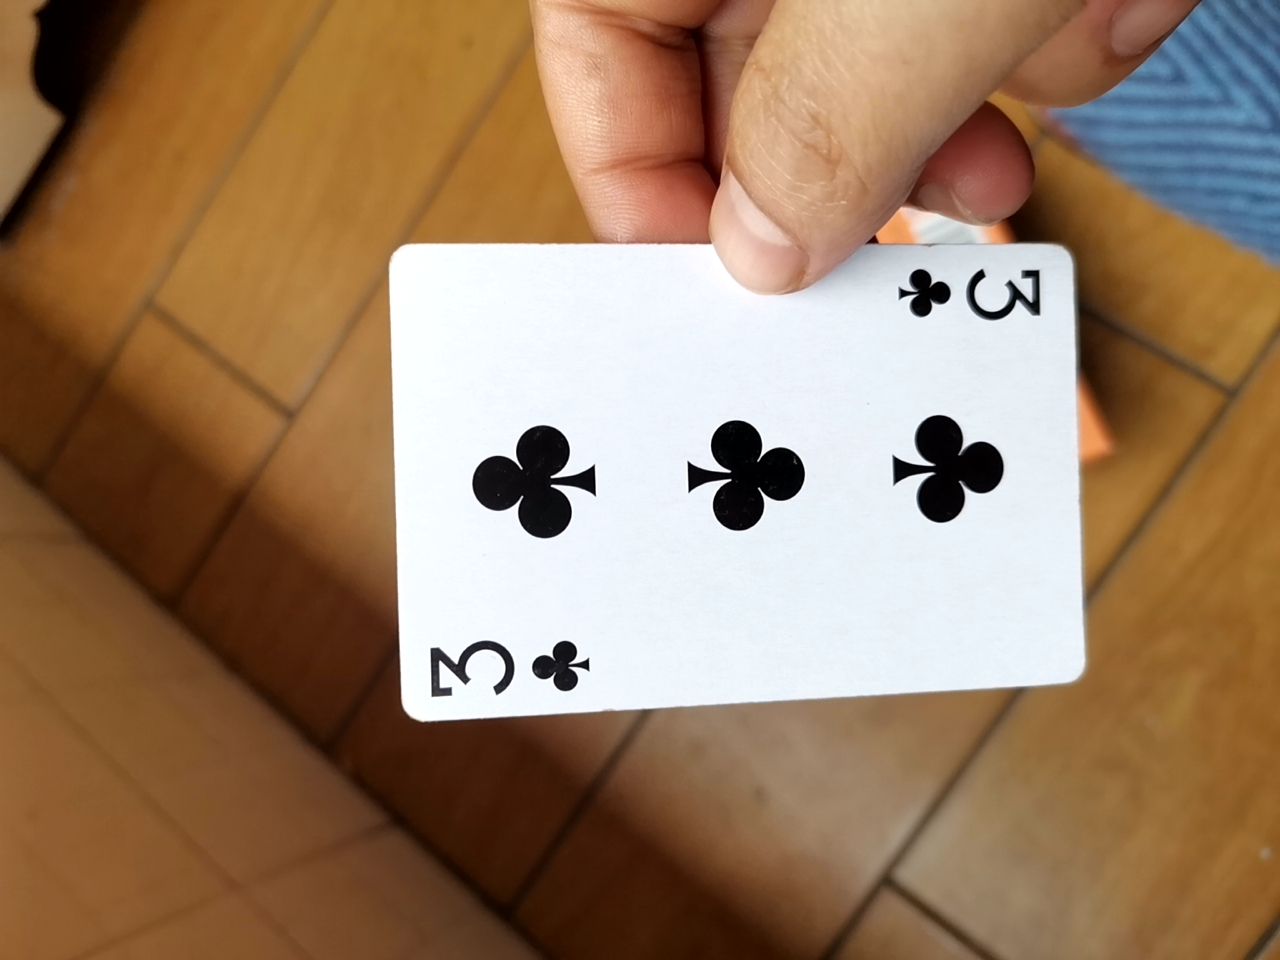mh 3: (375, 237, 1068, 735)
